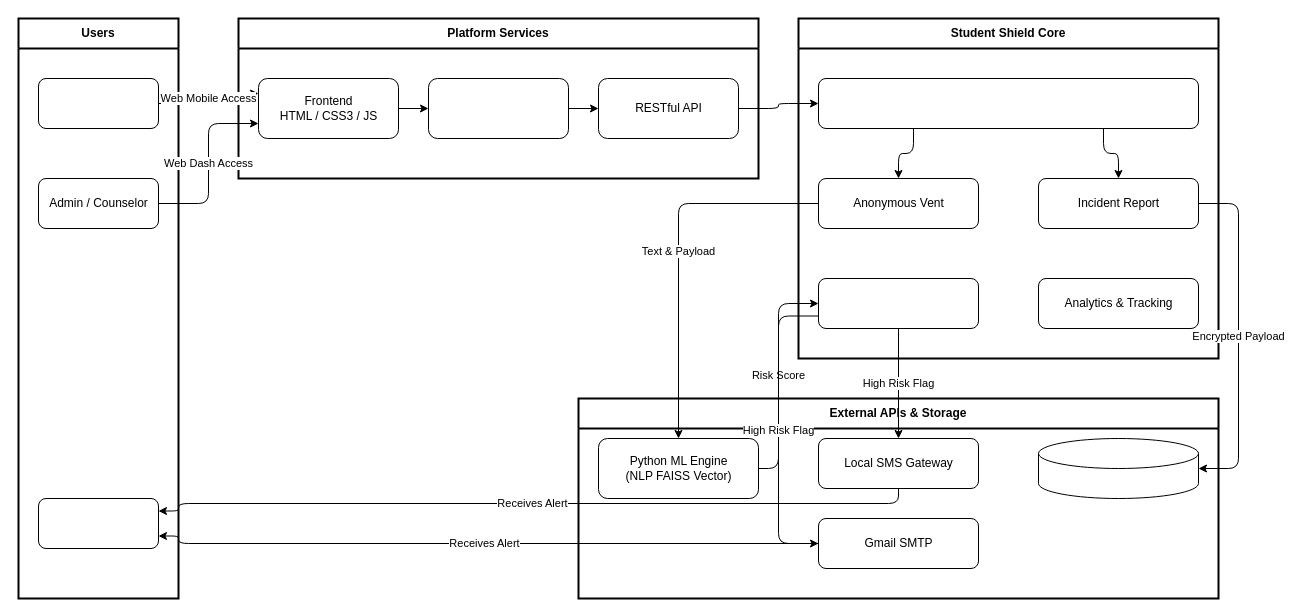
Image size: 1301x616. Some labels were removed from this diagram. The shapes that lost their labels are listed below. From the top down, each one's centre as x and y in pixels, then its label:
(98,103): Student
(498,108): PHP Backend Code Igniter 4
(1008,103): Role Management & AES-256 Data Encryption
(898,303): Intervention Escalation
(1118,468): MySQL Database
(98,523): Parent
